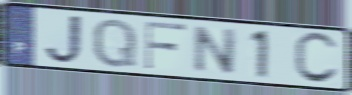1: (247, 28, 270, 80)
C: (292, 30, 341, 87)
F: (143, 20, 189, 72)
J: (42, 12, 85, 65)
N: (191, 24, 240, 76)
Q: (91, 16, 139, 70)
